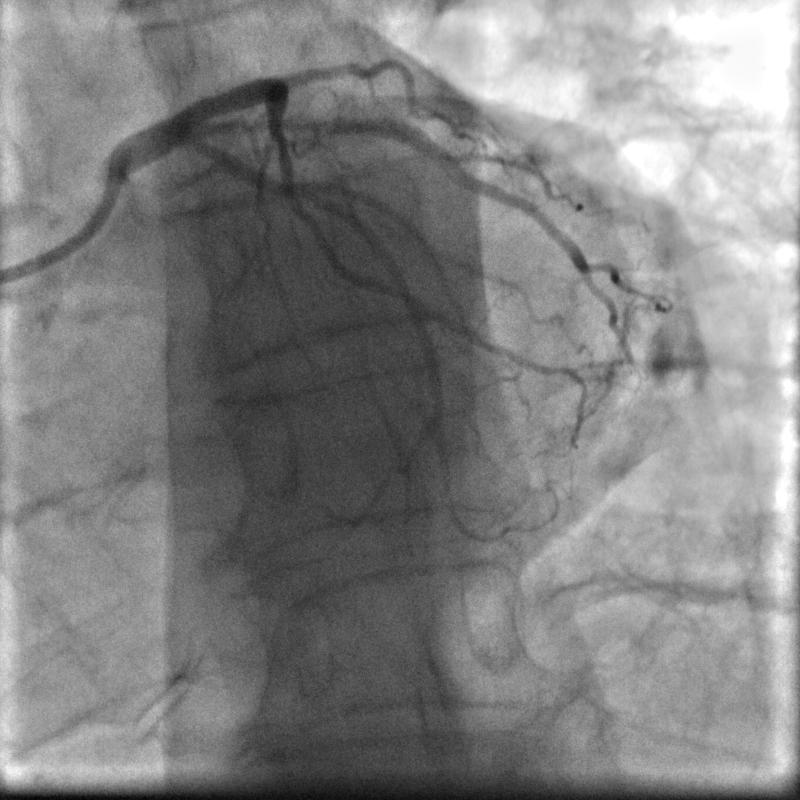Stenosis: (261, 105, 292, 161)
